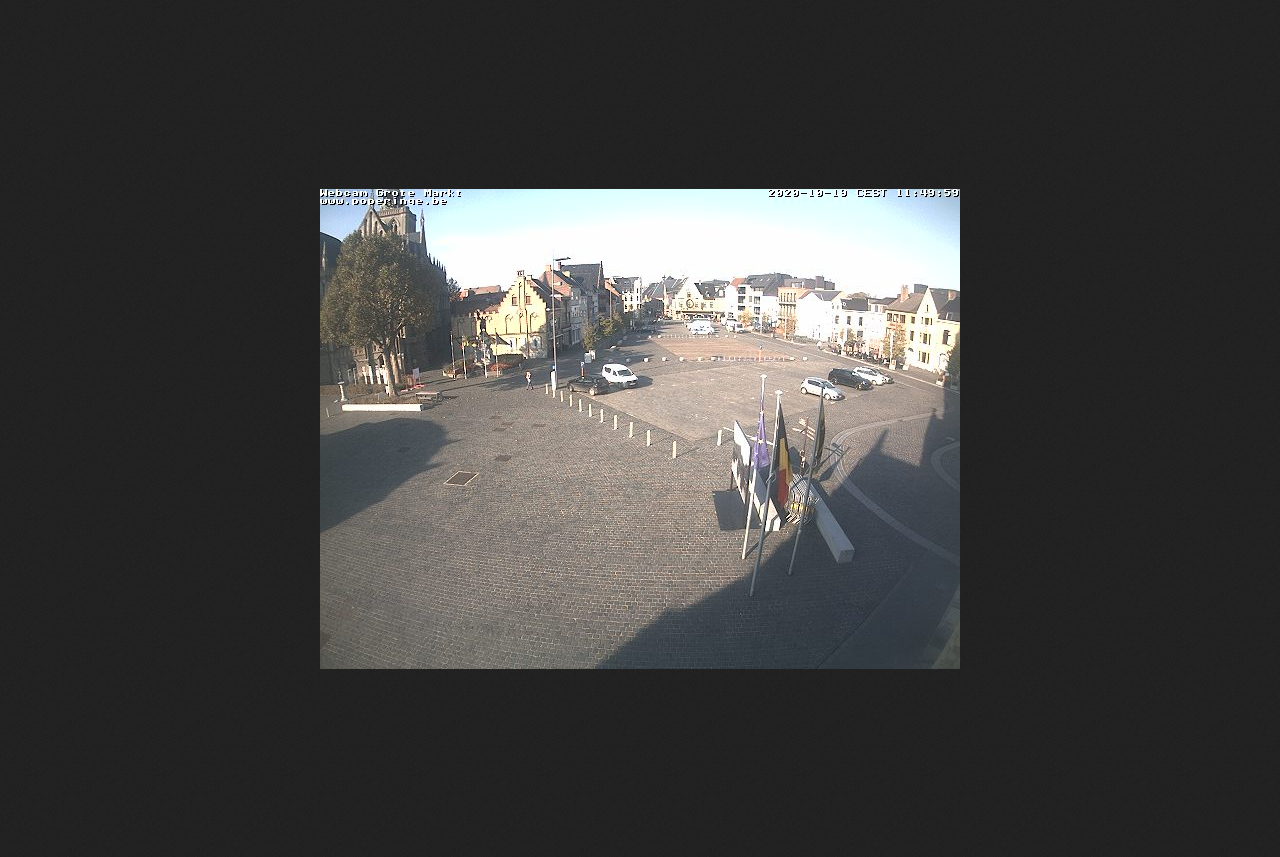no: (763, 383, 796, 516), (806, 378, 831, 485), (750, 373, 771, 475)
